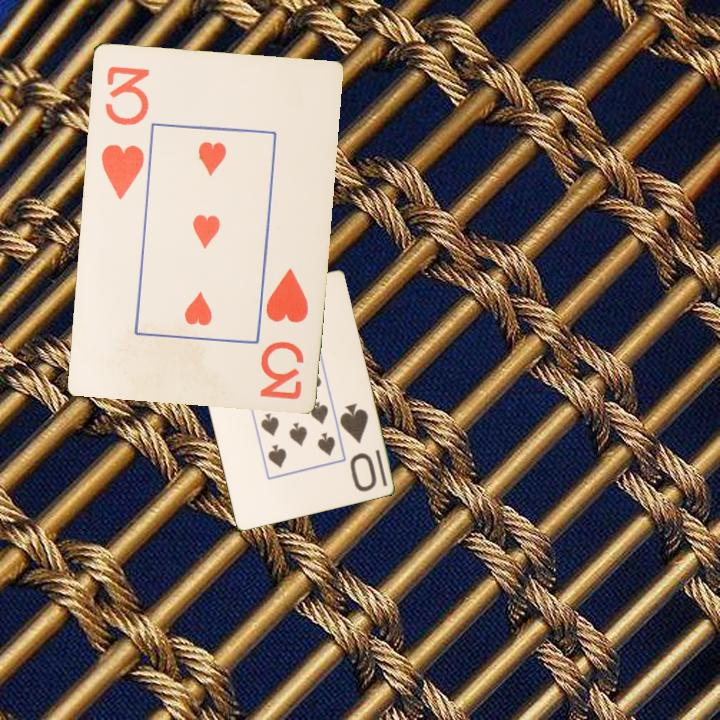10s: (336, 399, 379, 494)
3h: (97, 61, 152, 202), (255, 264, 311, 402)
